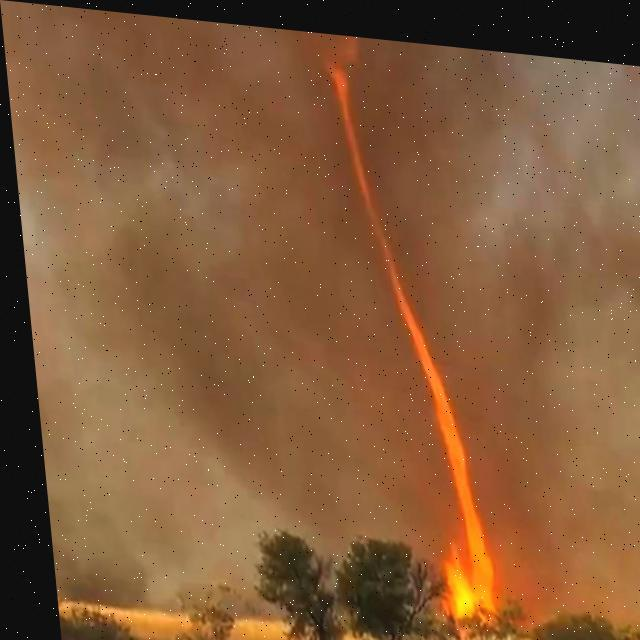Fire: (321, 54, 495, 618)
